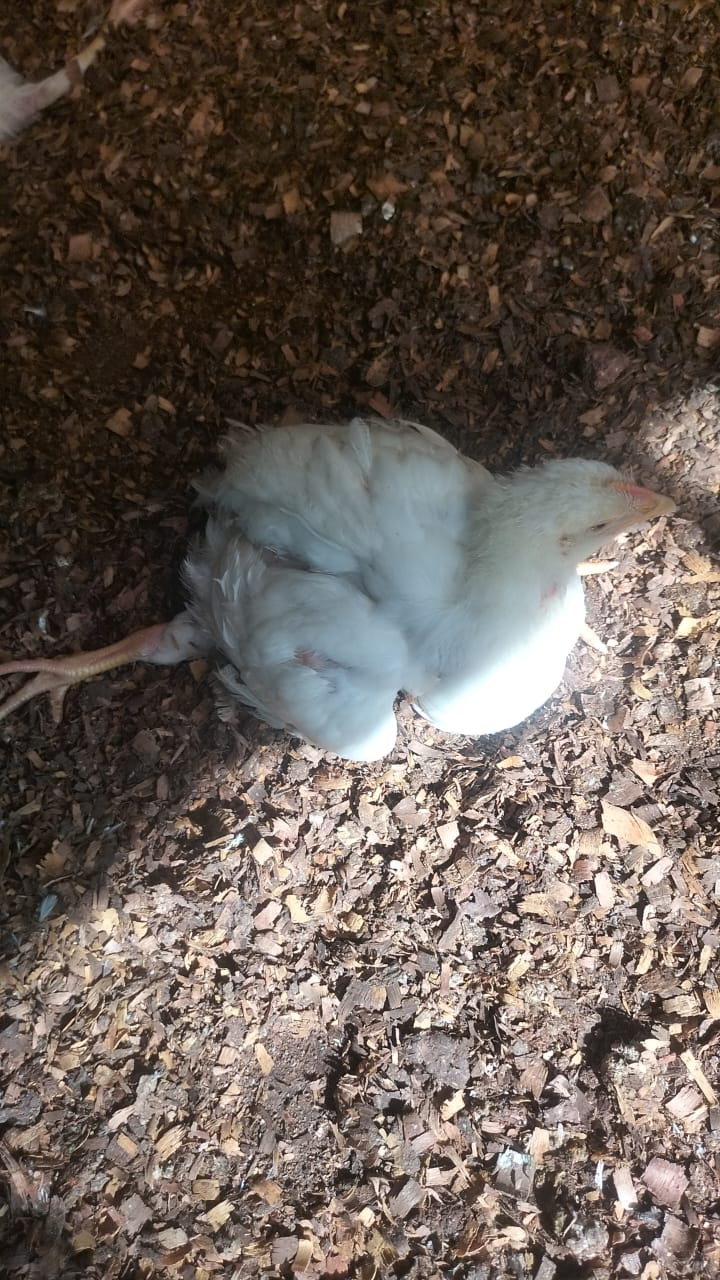Unhealthy: (10, 395, 683, 783)
